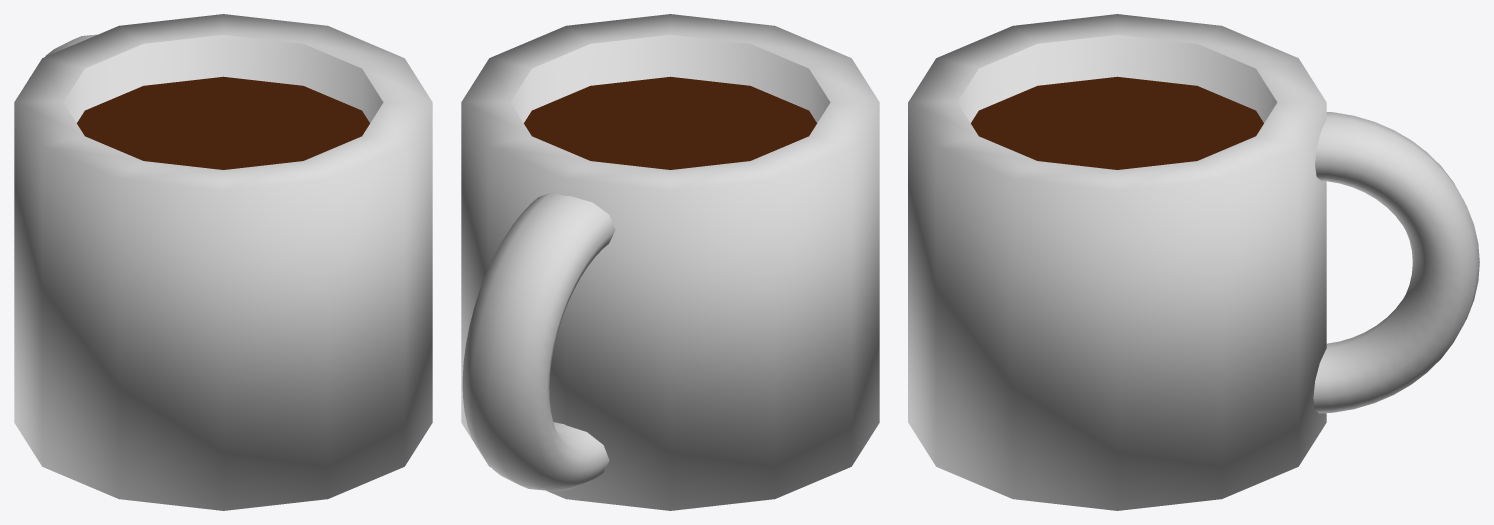
The model's file is Mug.fbx.
3 renders of one model, left to right at view 1: azimuth 30°, elevation 25°; view 2: azimuth 150°, elevation 25°; view 3: azimuth 270°, elevation 25°, orthographic.
Visible parts, largest first — view 1: Mug, CoffeeLevel; view 2: Mug, CoffeeLevel; view 3: Mug, CoffeeLevel.
Boxes of the visible parts, <box> form: Mug: <box>14,14,432,510</box>; CoffeeLevel: <box>77,76,369,169</box>; Mug: <box>461,14,879,510</box>; CoffeeLevel: <box>524,76,816,169</box>; Mug: <box>908,14,1479,510</box>; CoffeeLevel: <box>971,76,1263,169</box>.
Size of the model in its own units: 224 by 189 by 306.
